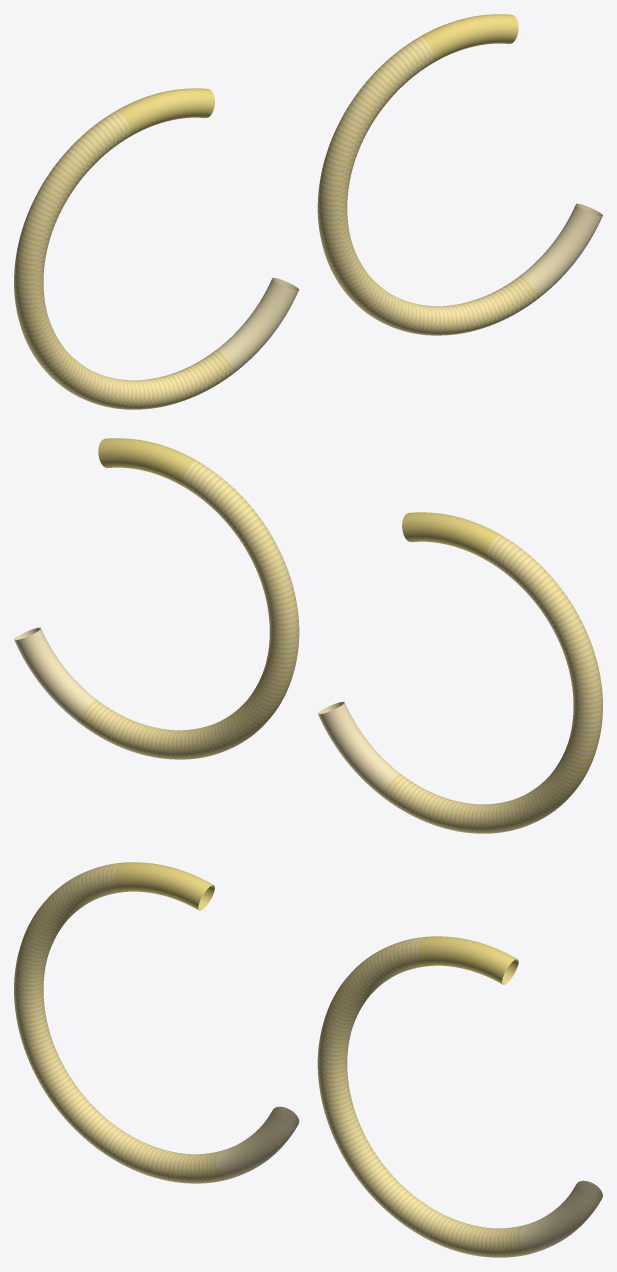
Rendered from luna-twist-hoops.glb.
3 views of the same model, one above another, from view 1: azimuth 30°, elevation 25°; view 2: azimuth 150°, elevation 25°; view 3: azimuth 330°, elevation 25° (orthographic).
Visible parts, largest first — view 1: luna-twist-hoops; view 2: luna-twist-hoops; view 3: luna-twist-hoops.
Part boxes in pixels (x1=…): luna-twist-hoops: x1=14, y1=14, x2=602, y2=409; luna-twist-hoops: x1=14, y1=438, x2=602, y2=833; luna-twist-hoops: x1=14, y1=862, x2=602, y2=1257.
Size of the model in its own units: 2.91 by 1.48 by 0.1272.
